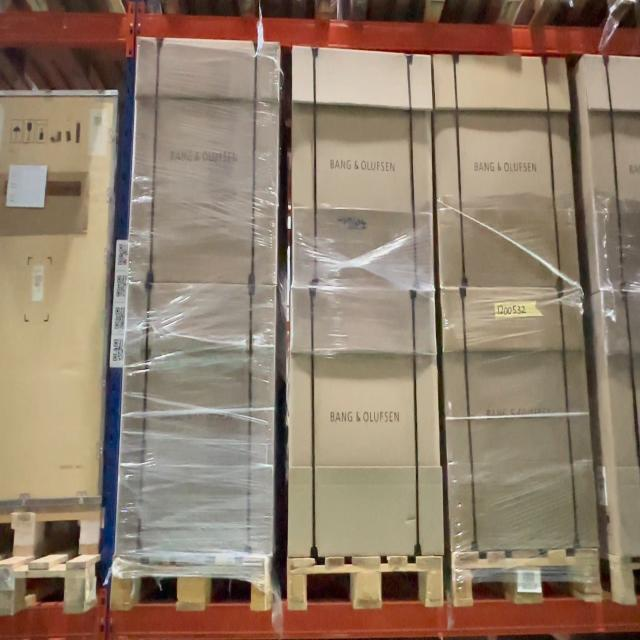box: (115, 278, 277, 573), (443, 289, 599, 558), (290, 287, 442, 555), (434, 55, 580, 290), (134, 43, 276, 284), (294, 53, 432, 287)
